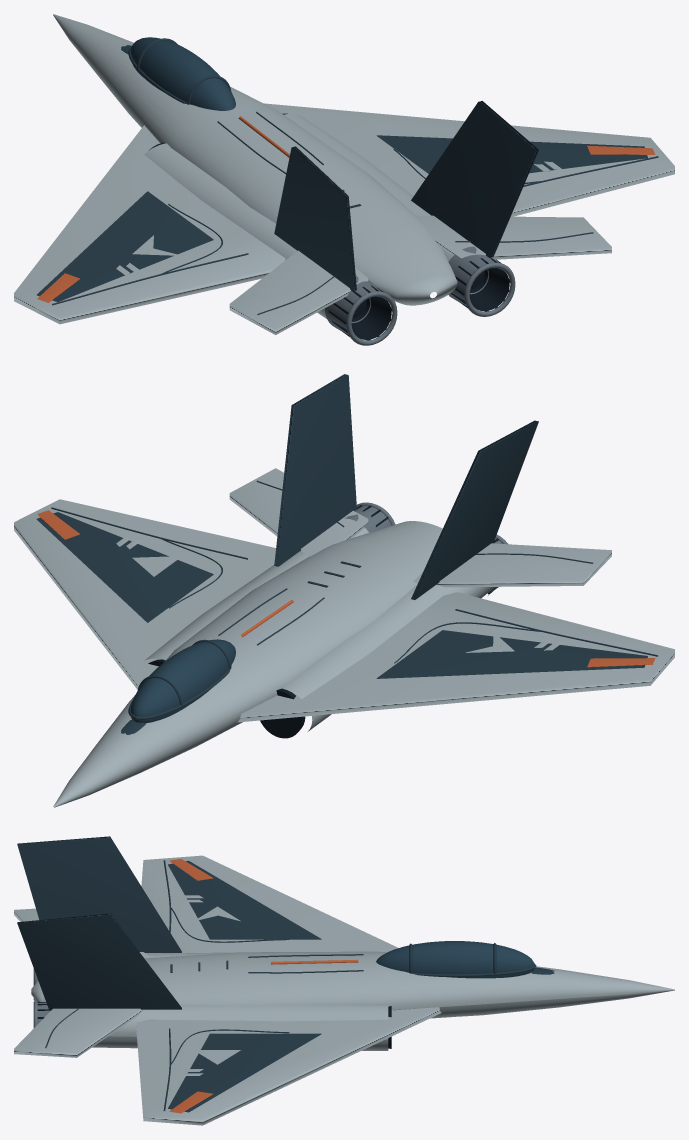
The model's file is player-vector-hero-v2.glb.
The picture shows the model from 3 angles, top to bottom: view 1: azimuth 30°, elevation 25°; view 2: azimuth 150°, elevation 25°; view 3: azimuth 270°, elevation 25°; orthographic projection. The views are drawn at different scales.
Parts seen in each view (by area): view 1: hull, trim, canopy, metal, dark, accent; view 2: hull, trim, canopy, accent, dark, metal; view 3: hull, trim, canopy, accent.
Part boxes in pixels (x1,y1,x2,y2): hull: [14, 14, 674, 334]; trim: [37, 38, 658, 314]; canopy: [130, 37, 235, 110]; metal: [325, 246, 515, 345]; dark: [149, 113, 510, 340]; accent: [37, 116, 655, 302]; hull: [14, 468, 674, 807]; trim: [36, 374, 657, 734]; canopy: [130, 639, 235, 723]; accent: [37, 510, 655, 667]; dark: [148, 505, 498, 738]; metal: [344, 502, 508, 595]; hull: [14, 855, 674, 1125]; trim: [17, 836, 554, 1112]; canopy: [376, 941, 534, 978]; accent: [169, 859, 358, 1113].
Size of the model in its own units: 17.8 by 4.66 by 18.9.
